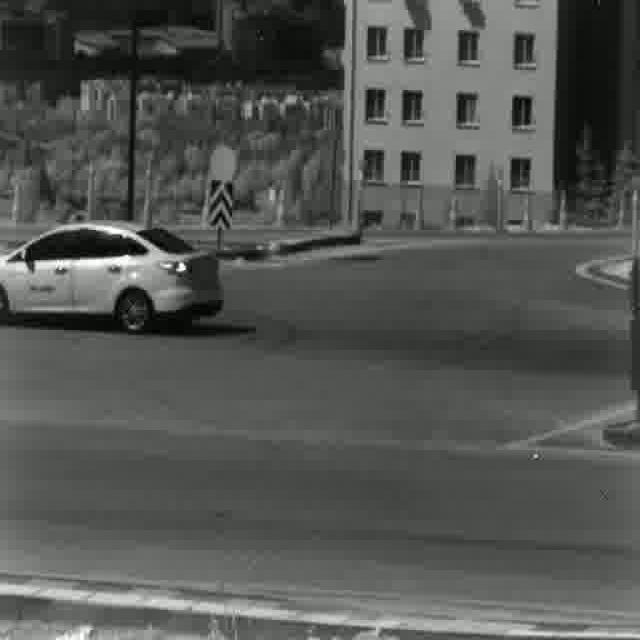Car: (0, 217, 223, 336)
